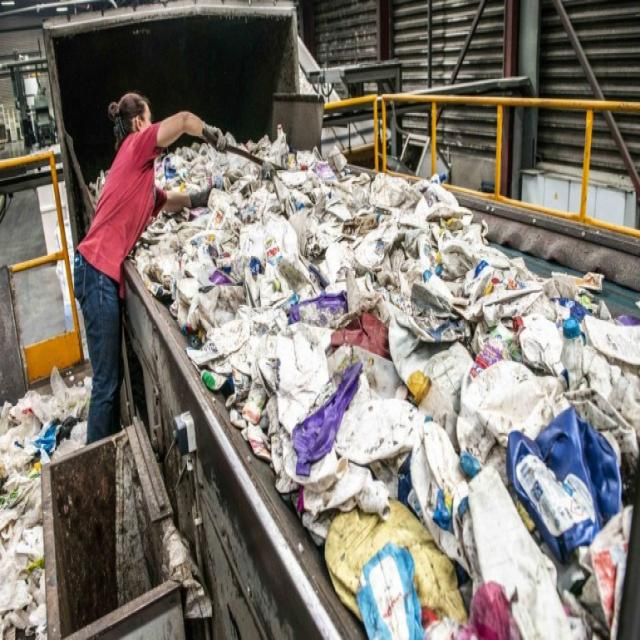garbage: (153, 120, 640, 640)
